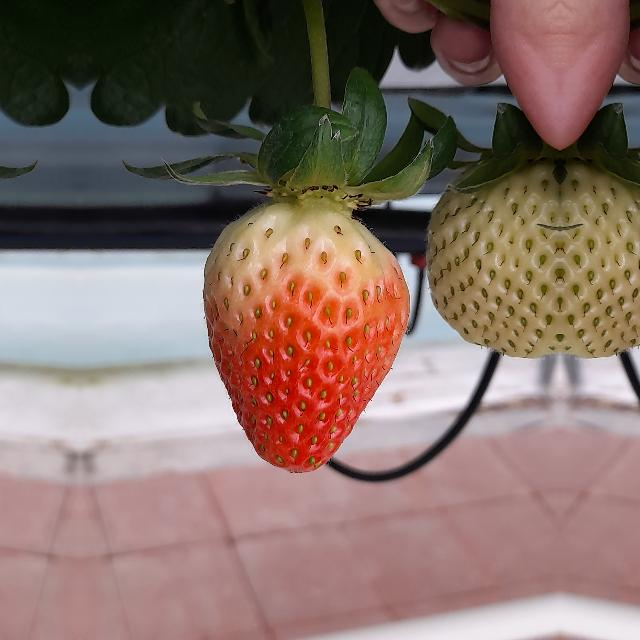Health_25: (425, 146, 559, 362), (561, 146, 640, 362)
Health_75: (202, 196, 410, 474)
